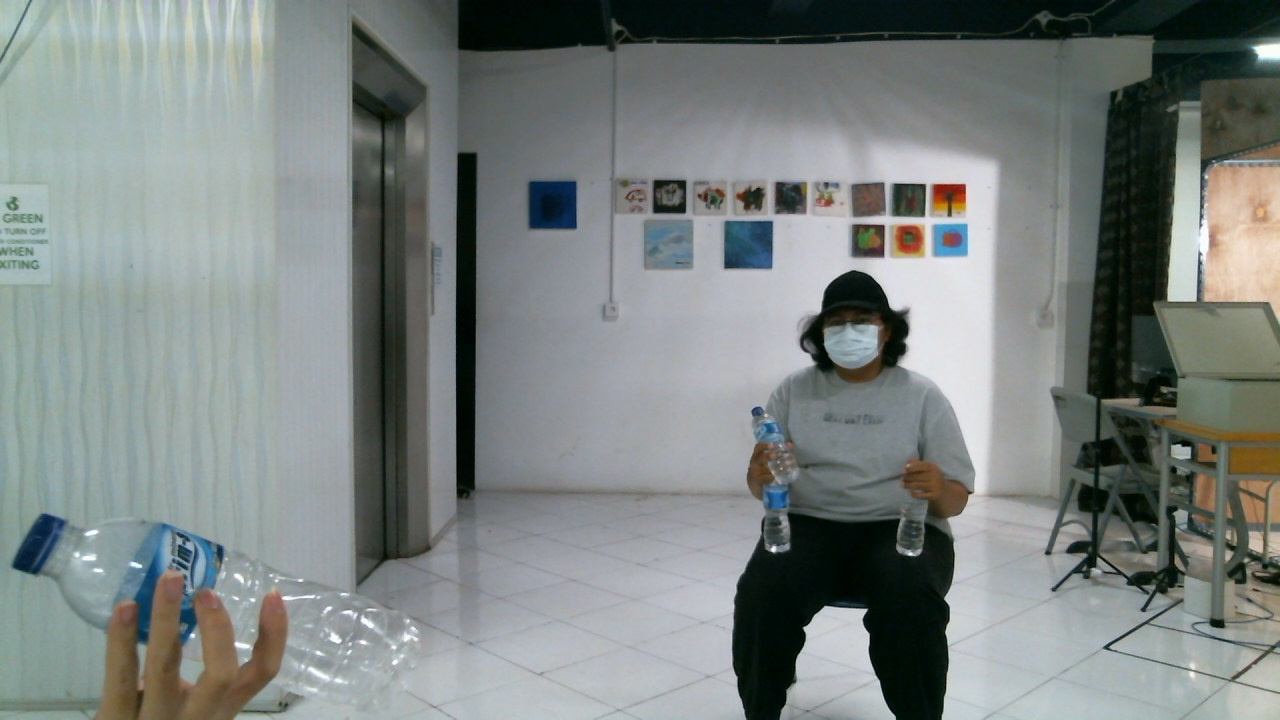Bottle: (9, 511, 424, 700), (747, 403, 804, 486)
